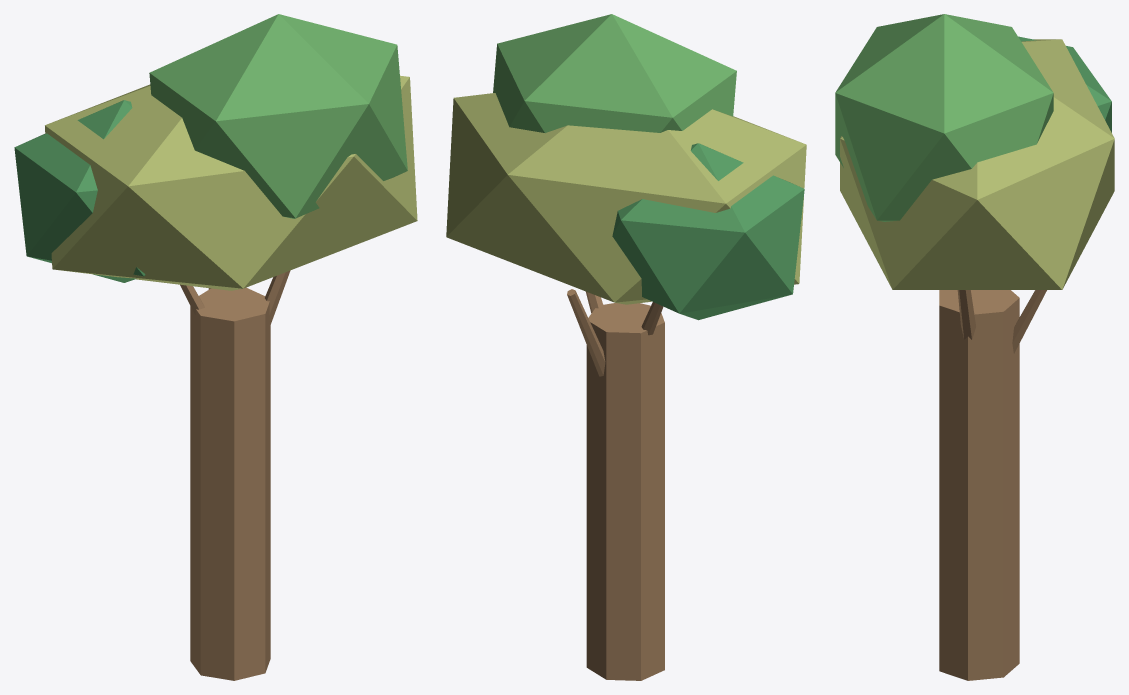
Rendered from leaf_tree_03.glb.
The picture shows the model from 3 angles, left to right: view 1: azimuth 30°, elevation 25°; view 2: azimuth 150°, elevation 25°; view 3: azimuth 270°, elevation 25°; orthographic projection. The views are drawn at different scales.
Visible parts, largest first — view 1: leaf_tree_03_canopy_1, leaf_tree_03_canopy_2, leaf_tree_03_trunk, leaf_tree_03_canopy_3; view 2: leaf_tree_03_canopy_1, leaf_tree_03_trunk, leaf_tree_03_canopy_2, leaf_tree_03_canopy_3, leaf_tree_03_branch_3; view 3: leaf_tree_03_canopy_1, leaf_tree_03_trunk, leaf_tree_03_canopy_2, leaf_tree_03_canopy_3, leaf_tree_03_branch_3, leaf_tree_03_branch_1.
Boxes of the visible parts, left/top/right/bottom form: leaf_tree_03_canopy_1: left=45, top=75, right=417, bottom=290; leaf_tree_03_canopy_2: left=149, top=14, right=407, bottom=218; leaf_tree_03_trunk: left=190, top=287, right=270, bottom=680; leaf_tree_03_canopy_3: left=14, top=100, right=145, bottom=282; leaf_tree_03_canopy_1: left=446, top=93, right=806, bottom=304; leaf_tree_03_trunk: left=586, top=303, right=664, bottom=680; leaf_tree_03_canopy_2: left=493, top=14, right=736, bottom=132; leaf_tree_03_canopy_3: left=612, top=143, right=804, bottom=320; leaf_tree_03_branch_3: left=567, top=289, right=605, bottom=376; leaf_tree_03_canopy_1: left=840, top=39, right=1114, bottom=289; leaf_tree_03_trunk: left=939, top=290, right=1019, bottom=680; leaf_tree_03_canopy_2: left=835, top=14, right=1053, bottom=221; leaf_tree_03_canopy_3: left=1018, top=36, right=1111, bottom=132; leaf_tree_03_branch_3: left=1012, top=290, right=1046, bottom=353; leaf_tree_03_branch_1: left=957, top=290, right=975, bottom=339.
Bounding box in the file's own units: 2.35 × 4 × 1.52.
